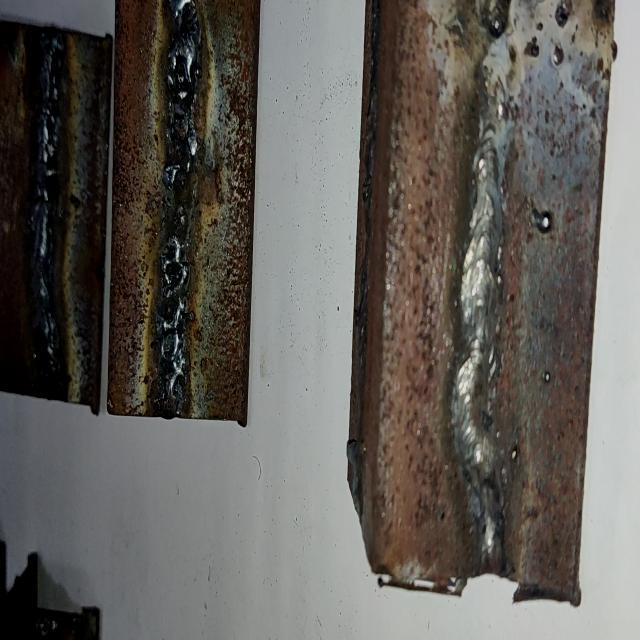Defect: (163, 14, 193, 412), (33, 44, 58, 390), (462, 0, 614, 45)
Welding Line: (456, 108, 502, 548), (164, 7, 199, 409), (31, 38, 59, 380)
Workpiece: (342, 0, 620, 599), (110, 0, 258, 430), (0, 29, 104, 409)
